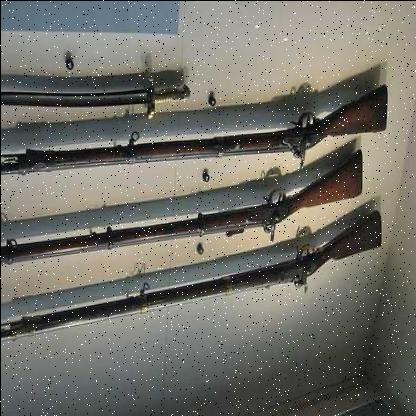rifle: (1, 201, 393, 366), (1, 141, 370, 289), (1, 100, 394, 166)
